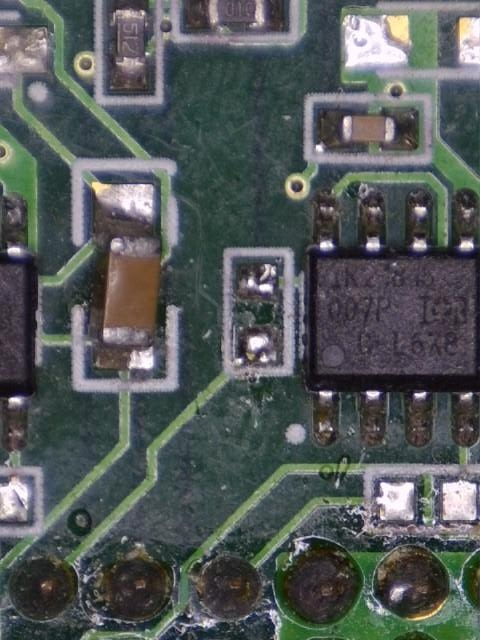pcb_defect: (90, 181, 161, 370)
